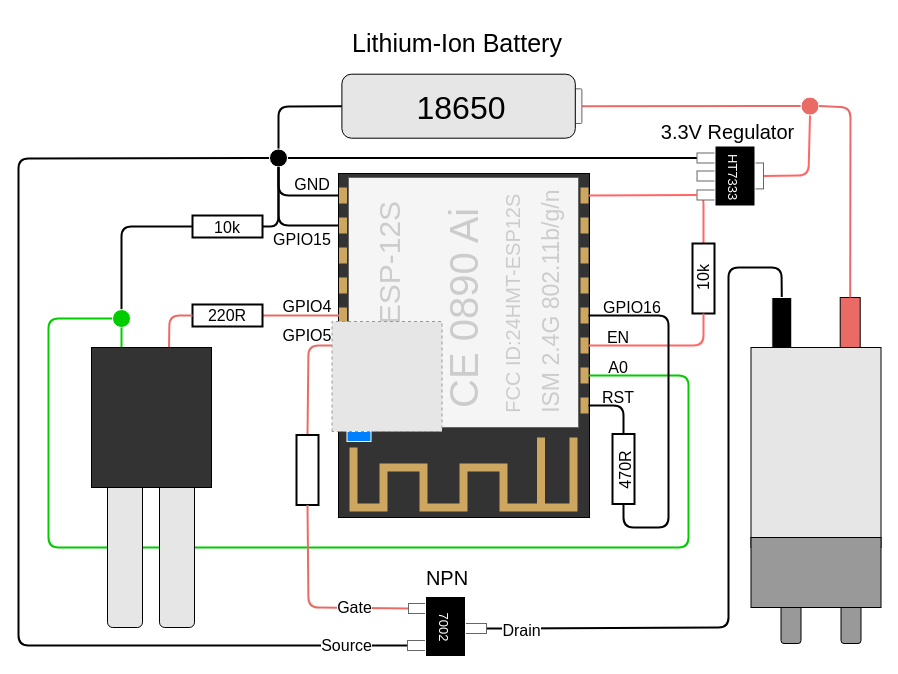
This 898x674 diagram has some shape labels left out. Grey dashed boxes stand in for pictures. Each missing label, with the centre of its shape:
1.2k: pixel 307 470
DC Motor: pixel 815 447
Pump: pixel 815 572
